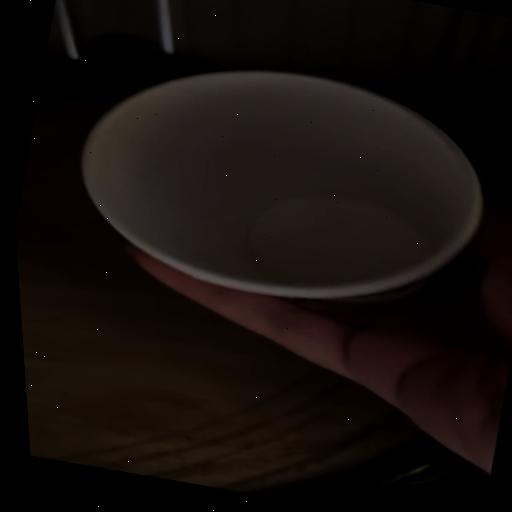Ly_giay: (82, 71, 483, 301)
